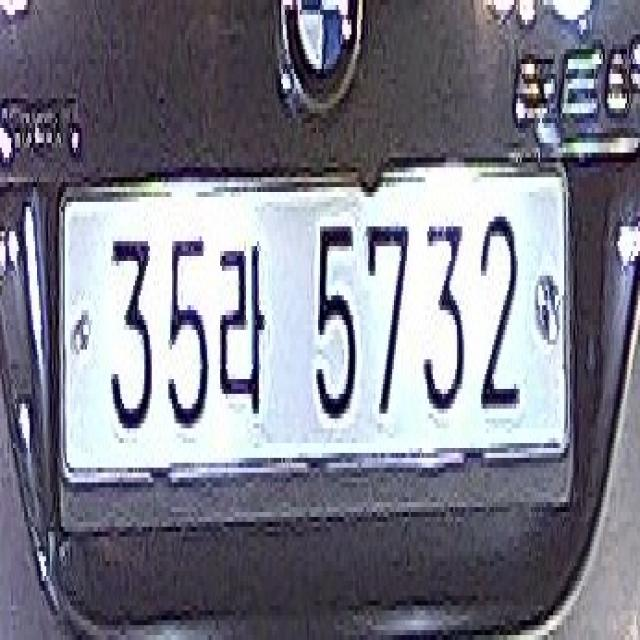2: (475, 207, 520, 423)
3: (108, 227, 158, 438), (426, 216, 466, 418)
5: (312, 212, 360, 428), (163, 232, 209, 434)
7: (364, 222, 409, 418)
la: (215, 232, 268, 418)
license_plate: (57, 172, 570, 478)
